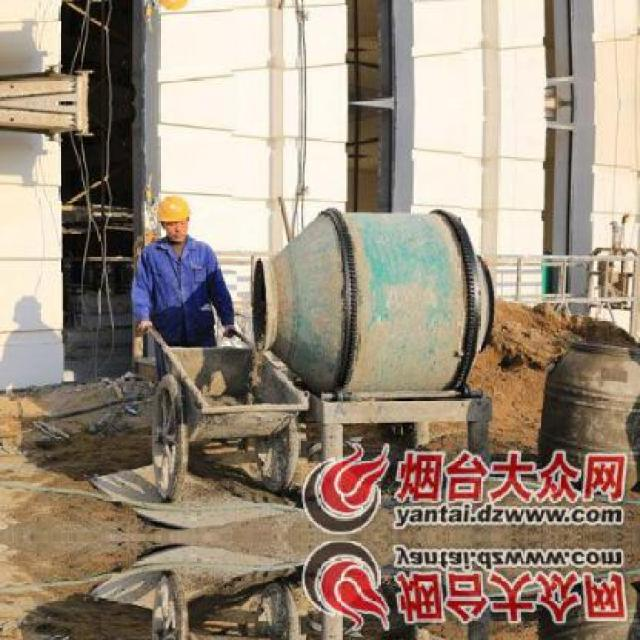helmet: (153, 190, 195, 241), (152, 0, 195, 14)
